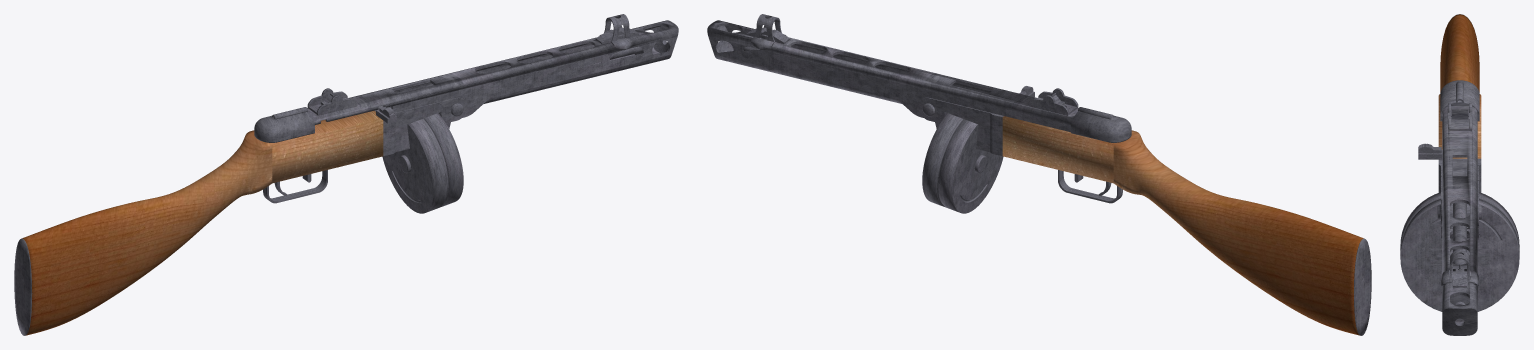
The model's file is PPSH-41 Assembled.fbx.
The picture shows the model from 3 angles, left to right: view 1: azimuth 30°, elevation 25°; view 2: azimuth 150°, elevation 25°; view 3: azimuth 270°, elevation 25°; orthographic projection. The views are drawn at different scales.
Parts seen in each view (by area): view 1: Stock, Main Assembly, Drum Magazine, Cube, Trigger gaurd; view 2: Stock, Main Assembly, Drum Magazine, Cube, Trigger gaurd; view 3: Main Assembly, Drum Magazine, Stock, Bolt Handle.
Boxes of the visible parts, x1,y1,x2,y2 form: Stock: (22,110,383,335); Main Assembly: (254,14,678,156); Drum Magazine: (382,113,463,213); Cube: (14,238,32,335); Trigger gaurd: (263,170,327,203); Stock: (1002,116,1363,335); Main Assembly: (707,14,1131,156); Drum Magazine: (922,113,1003,213); Cube: (1354,238,1371,335); Trigger gaurd: (1058,170,1122,203); Main Assembly: (1437,80,1481,335); Drum Magazine: (1400,192,1519,311); Stock: (1438,14,1481,158); Bolt Handle: (1418,143,1442,159).
Size of the model in its own units: 85.43 by 21.81 by 12.
